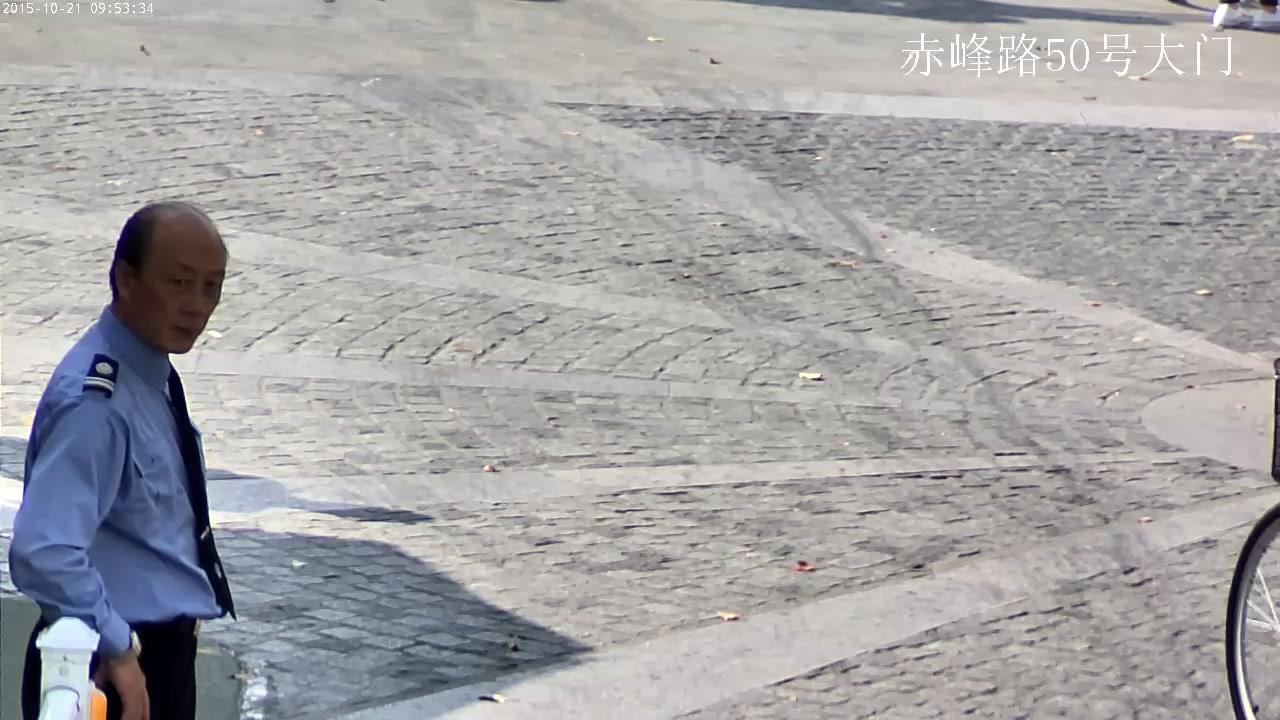face: (134, 237, 226, 353)
